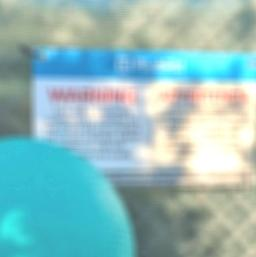algae: (0, 132, 139, 257)
